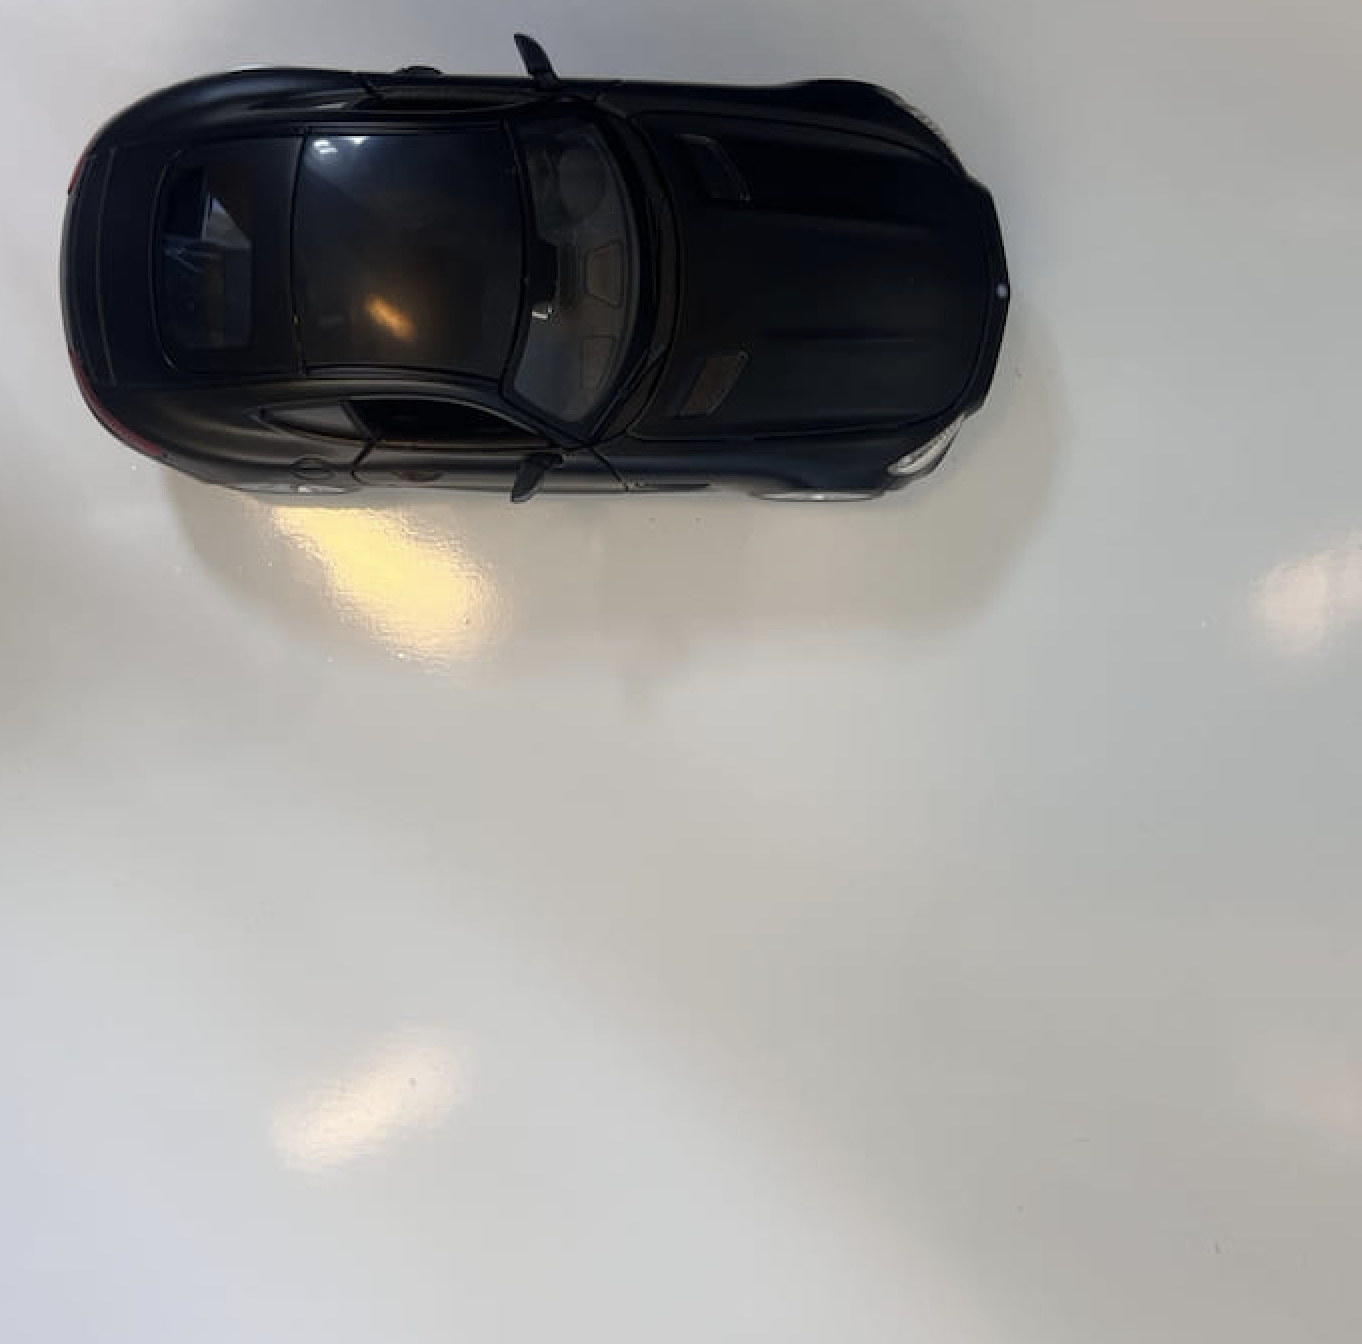car: (61, 35, 1011, 506)
